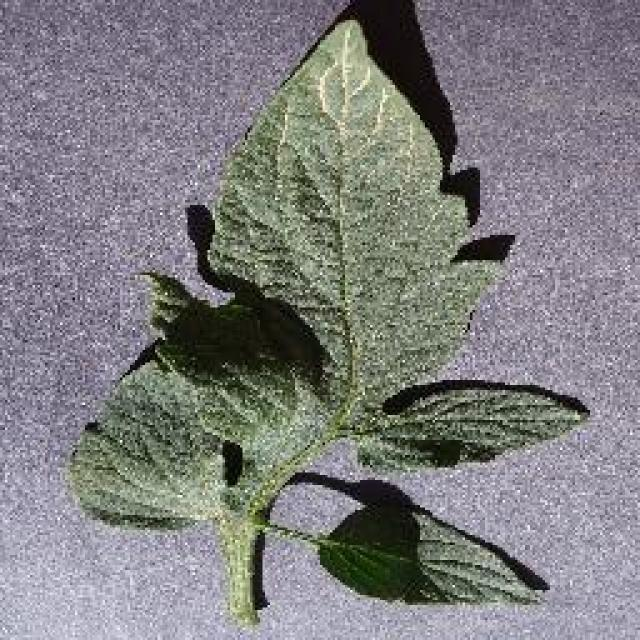Healthy: (55, 0, 600, 628)
